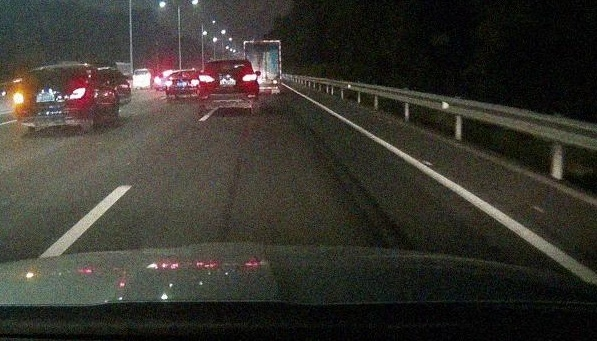L_light: (199, 75, 215, 82), (16, 93, 25, 104)
R_light: (69, 88, 85, 99), (242, 74, 257, 81)
T_light: (43, 69, 55, 73), (222, 60, 231, 64)
night-left: (15, 64, 86, 134)
night-no: (199, 58, 258, 114)
